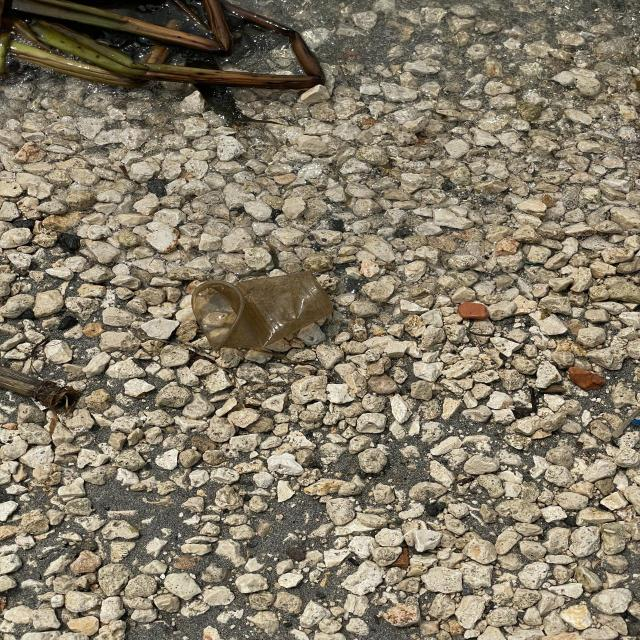plastic_waste: (191, 268, 337, 353)
